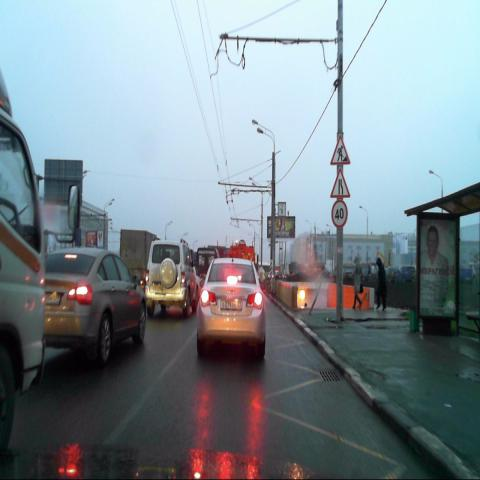1_20_2: (330, 167, 350, 198)
1_25: (331, 134, 350, 165)
3_24: (331, 201, 348, 227)
